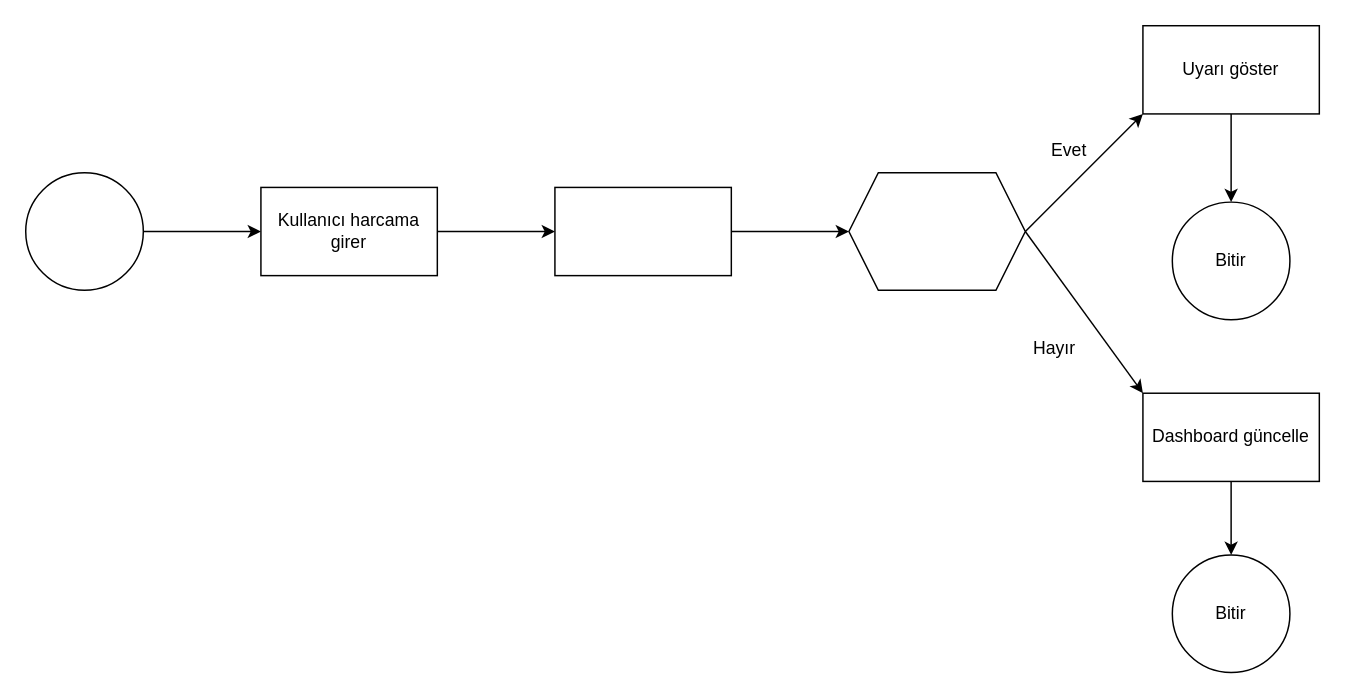
Image size: 1345x698. Some labels were removed from this diagram. The shapes that lost their labels are listed below. From the top down, each one's centre as x and y in pixels, then its label:
At point 83,230: "Başla".
At point 642,231: "Sistem veriyi kaydeder".
At point 936,230: "Bütçe aşıldı mı?".
